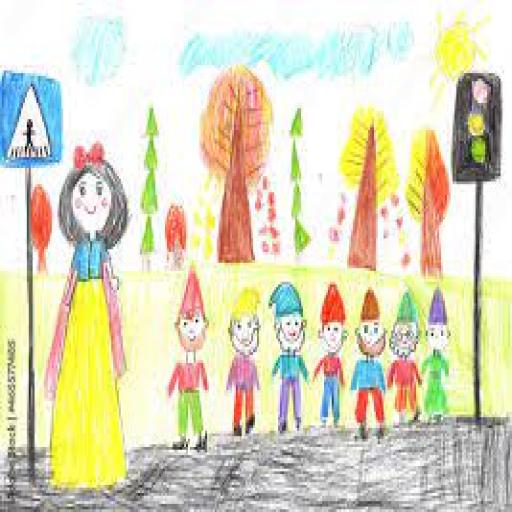person: (35, 138, 133, 504), (161, 262, 216, 460), (220, 286, 266, 445), (269, 269, 309, 440), (347, 285, 390, 443), (311, 276, 353, 436), (387, 285, 424, 430), (420, 282, 456, 429)
